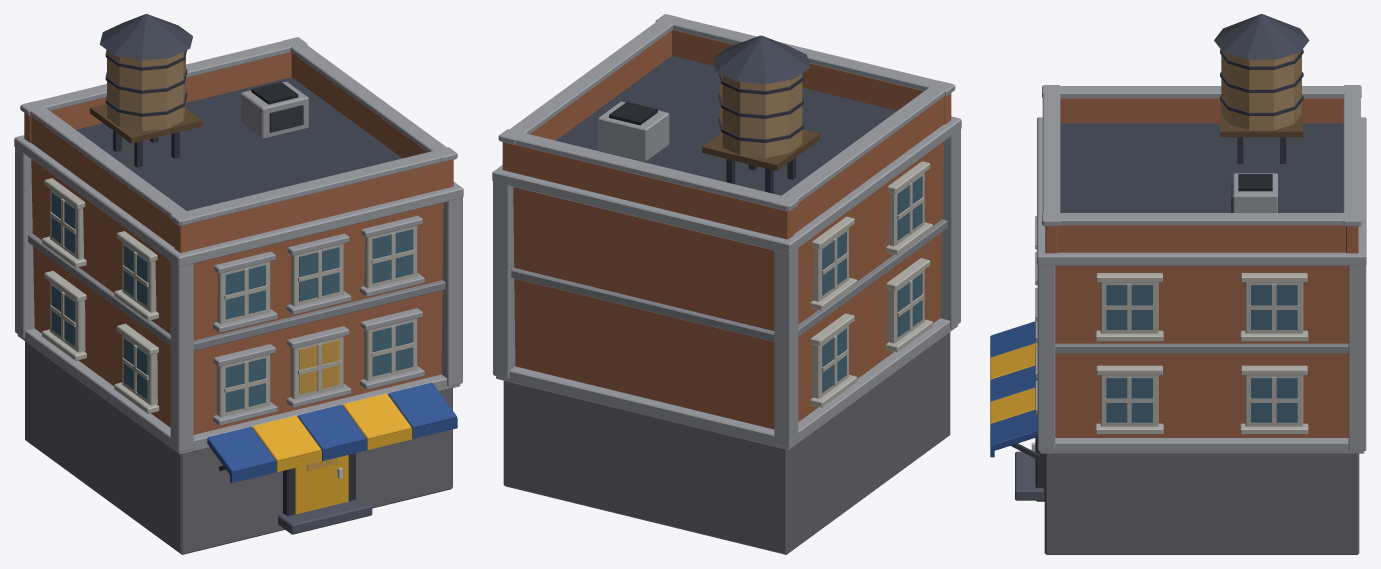
The model's file is Stylized_Building_Block.fbx.
The picture shows the model from 3 angles, left to right: view 1: azimuth 30°, elevation 25°; view 2: azimuth 150°, elevation 25°; view 3: azimuth 270°, elevation 25°; orthographic projection. The views are drawn at different scales.
Visible parts, largest first — view 1: Stylized_Building_Block; view 2: Stylized_Building_Block; view 3: Stylized_Building_Block.
Boxes of the visible parts, x1,y1,x2,y2 form: Stylized_Building_Block: [14, 14, 463, 554]; Stylized_Building_Block: [492, 14, 961, 554]; Stylized_Building_Block: [990, 14, 1366, 554].
Bounding box in the file's own units: 5.3 × 7.78 × 5.98.
